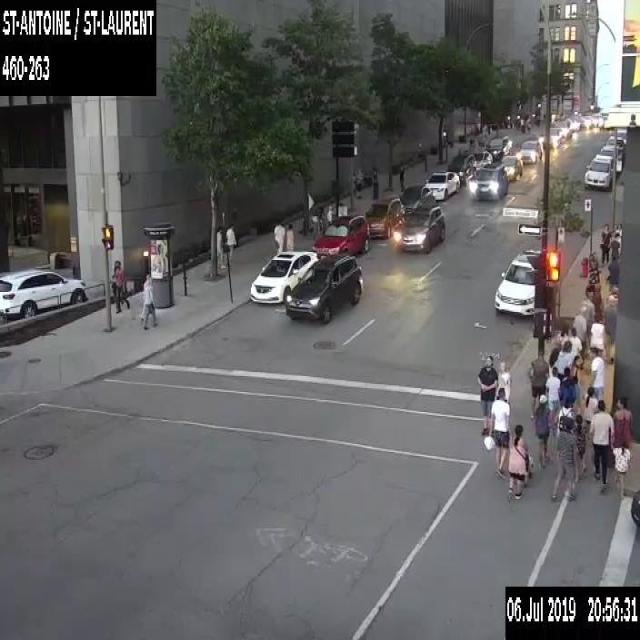pedestrian: (483, 387, 510, 478), (587, 398, 614, 486), (550, 418, 575, 499), (507, 424, 532, 498), (476, 354, 497, 436), (526, 350, 548, 417), (582, 385, 598, 470), (532, 392, 549, 468), (610, 396, 633, 450), (611, 439, 632, 498), (572, 304, 588, 371), (580, 285, 596, 351), (544, 364, 560, 429), (556, 365, 576, 417), (572, 412, 586, 482), (605, 284, 618, 359), (142, 271, 158, 328), (588, 344, 604, 400), (112, 265, 129, 312), (568, 327, 581, 381), (589, 317, 605, 360), (496, 360, 510, 402), (110, 259, 123, 304), (558, 340, 573, 378), (224, 222, 236, 264), (599, 222, 610, 264), (215, 226, 225, 268), (273, 220, 285, 253), (569, 354, 580, 386), (547, 346, 558, 377), (614, 222, 622, 254), (286, 222, 294, 250), (610, 234, 619, 258), (326, 203, 334, 225), (398, 164, 404, 190), (371, 168, 379, 180)
vehicle: (286, 252, 362, 322), (0, 267, 86, 320), (250, 250, 318, 303), (493, 246, 541, 318), (312, 213, 369, 258), (396, 202, 444, 252), (364, 196, 404, 239), (473, 161, 508, 199), (420, 170, 459, 201), (398, 184, 434, 217), (584, 152, 613, 188), (446, 152, 476, 184), (485, 134, 512, 159), (500, 154, 523, 180), (599, 144, 620, 170), (518, 140, 541, 163), (471, 149, 492, 170), (606, 134, 624, 158), (539, 127, 560, 147), (630, 486, 639, 526), (554, 119, 572, 138), (616, 127, 626, 144), (567, 117, 580, 129), (580, 114, 592, 126)
